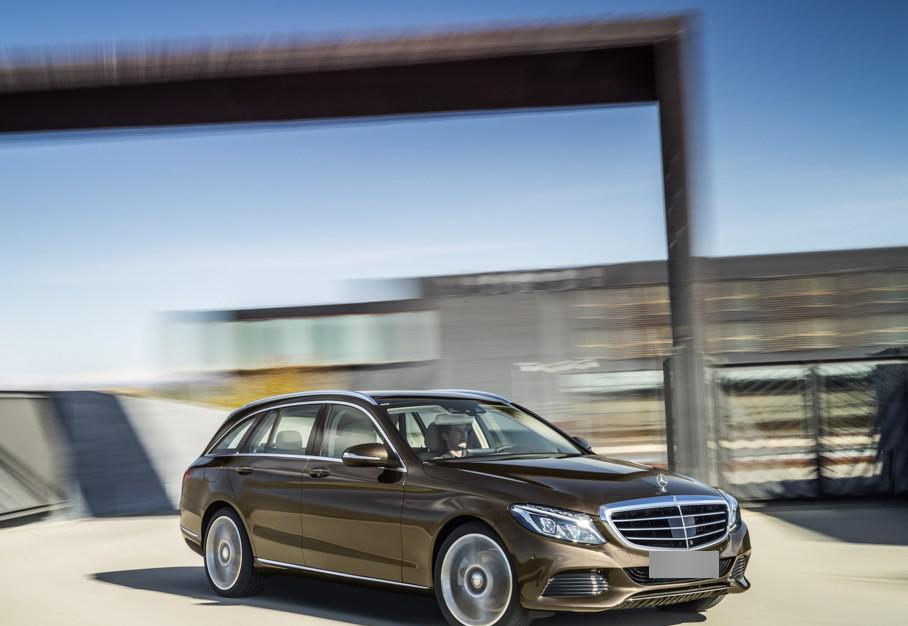Wagon: (180, 388, 753, 626)
